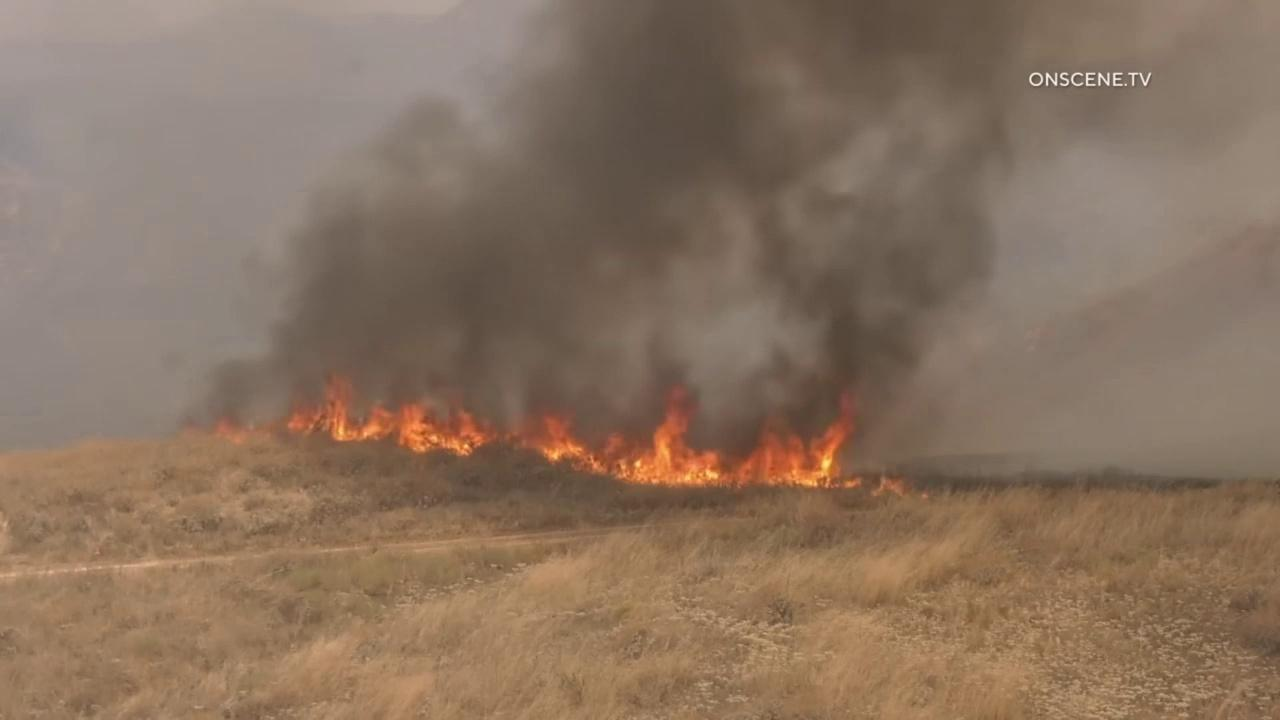fire: (214, 368, 865, 489), (870, 470, 907, 499), (919, 489, 930, 499)
smoke: (0, 0, 1280, 479)
